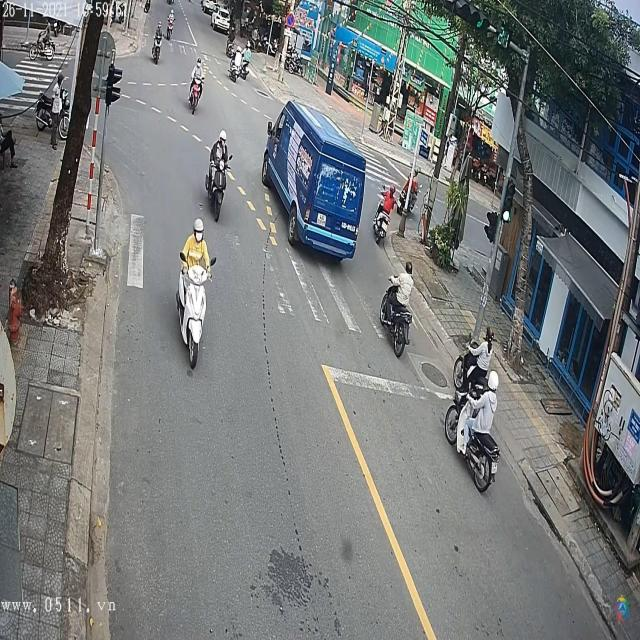car: (261, 101, 365, 260)
motorcycle: (443, 386, 500, 494), (175, 240, 217, 368), (378, 271, 414, 360), (204, 150, 234, 218), (372, 194, 390, 247), (187, 74, 204, 114)
